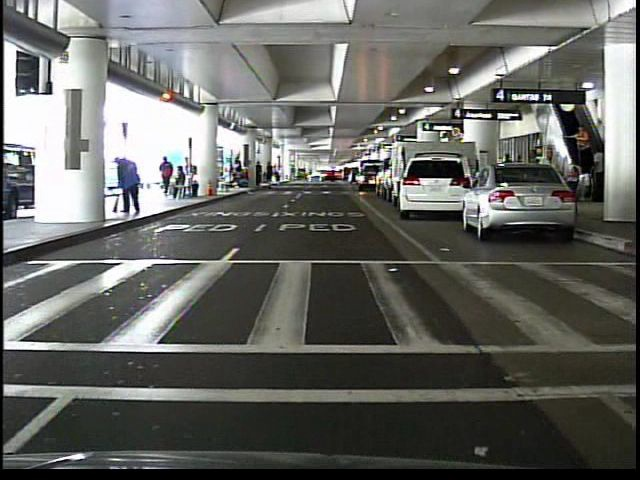person: (115, 151, 145, 218), (569, 121, 594, 170)
